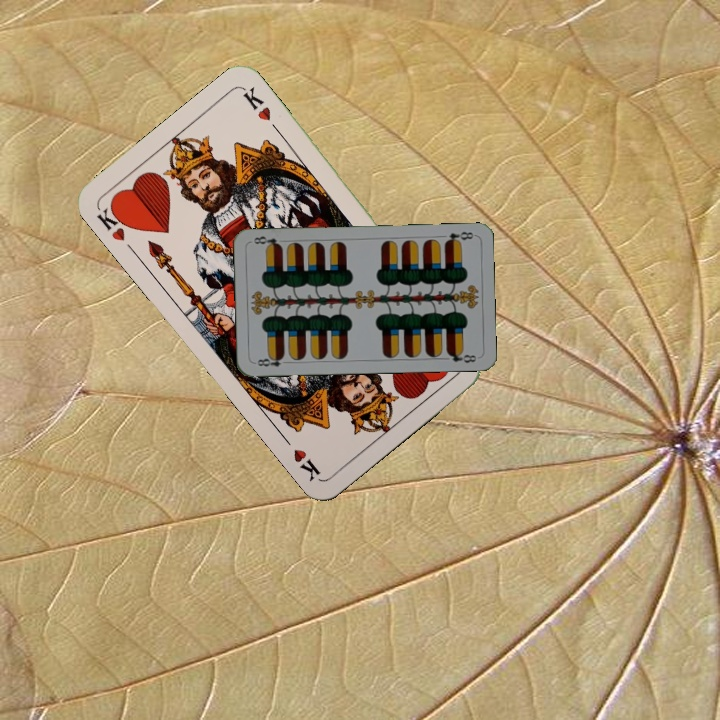E8: (440, 227, 476, 246), (253, 352, 292, 369)
HK: (92, 198, 134, 244)
